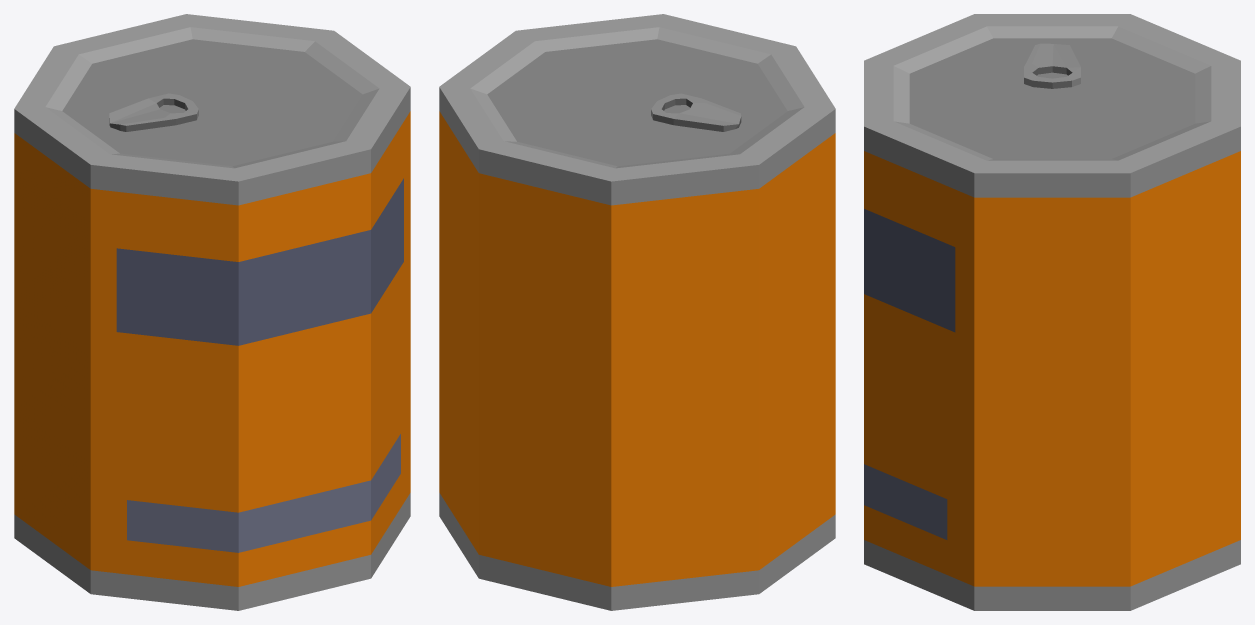
The model's file is CannedFood_07.fbx.
3 views of the same model, side by side, from view 1: azimuth 30°, elevation 25°; view 2: azimuth 150°, elevation 25°; view 3: azimuth 270°, elevation 25° (orthographic).
Parts seen in each view (by area): view 1: CannedFood_07; view 2: CannedFood_07; view 3: CannedFood_07.
Boxes of the visible parts, x1,y1,x2,y2 form: CannedFood_07: (14, 14, 410, 610); CannedFood_07: (439, 14, 835, 610); CannedFood_07: (864, 14, 1240, 610).
Bounding box in the file's own units: 11.56 × 14.88 × 11.56.
